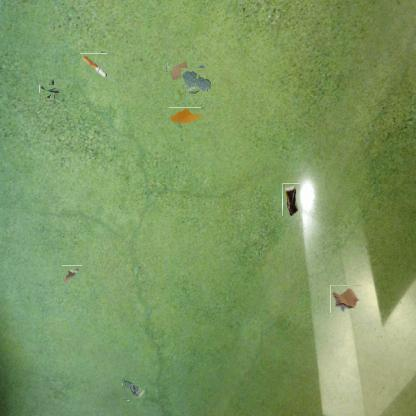dirty: (330, 285, 361, 313), (80, 52, 107, 79), (282, 183, 300, 216), (166, 59, 190, 81), (122, 378, 144, 400), (62, 265, 82, 284), (43, 82, 57, 97)
liquid: (184, 66, 212, 93), (169, 107, 201, 124)
